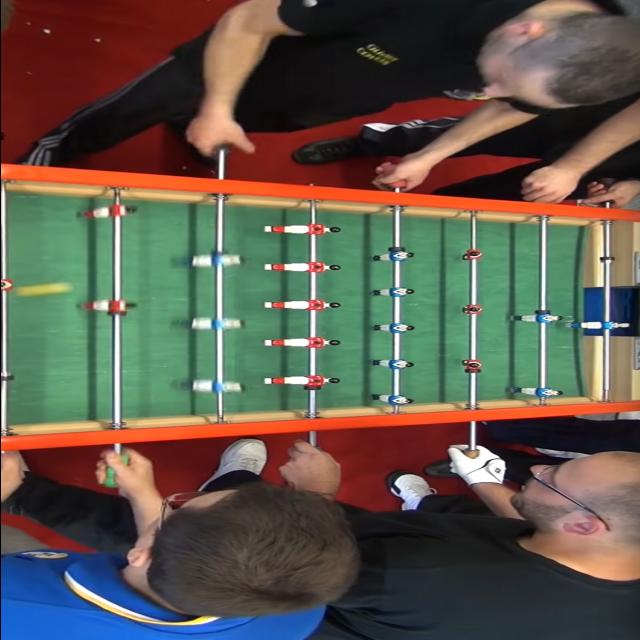ball: (15, 284, 69, 298)
